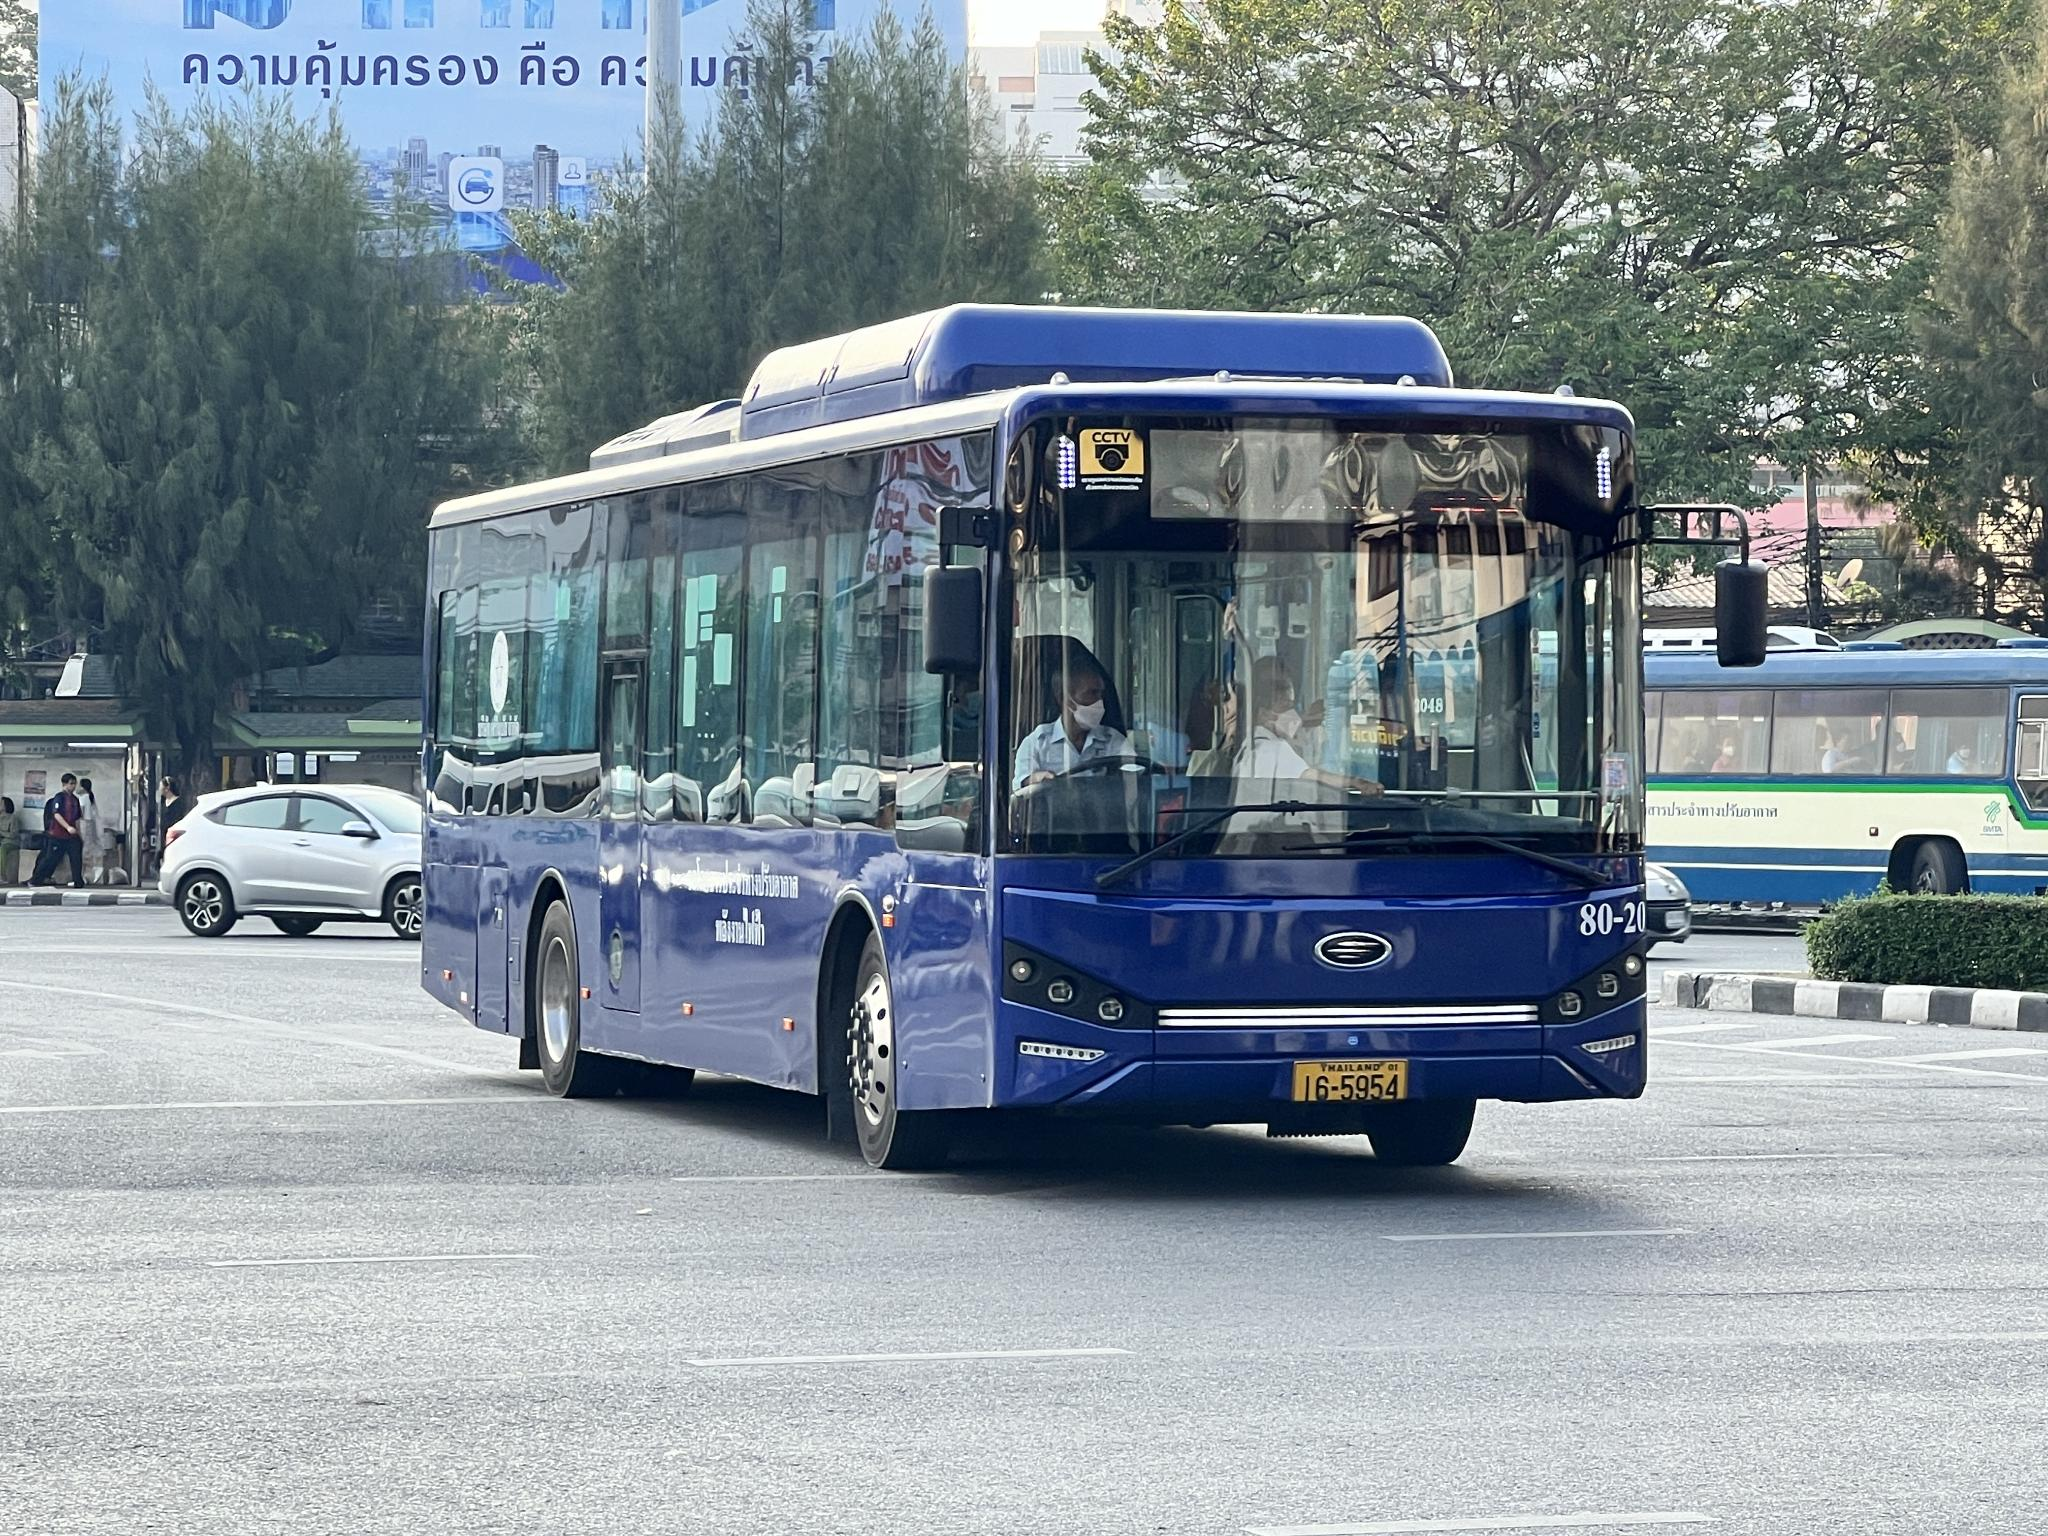Bus Line Number: (1414, 436, 1529, 529)
Bus Side Number: (1576, 891, 1651, 945)
Destination Sign: (1142, 421, 1411, 529)
TSB-Bus: (414, 307, 1658, 1171)
